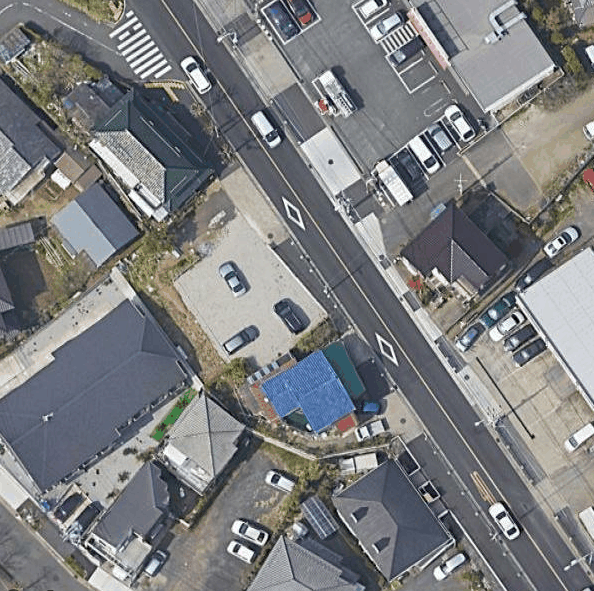flatroof: (523, 243, 592, 402)
